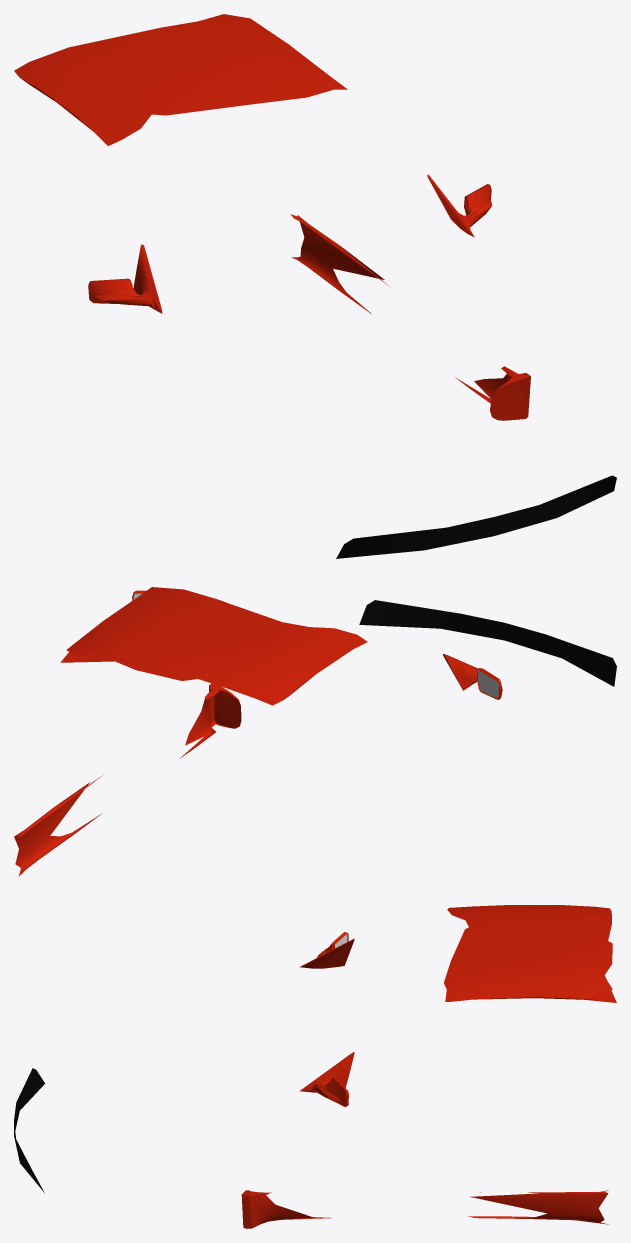
The model's file is doubleSidedMeshTest.fbx.
The picture shows the model from 3 angles, top to bottom: view 1: azimuth 30°, elevation 25°; view 2: azimuth 150°, elevation 25°; view 3: azimuth 270°, elevation 25°; orthographic projection. The views are drawn at different scales.
Parts seen in each view (by area): view 1: bmw7_convexHull, details; view 2: bmw7_convexHull, details; view 3: bmw7_convexHull, details.
Part boxes in pixels (x1=…): bmw7_convexHull: x1=14, y1=14, x2=616, y2=558; details: x1=88, y1=174, x2=492, y2=313; bmw7_convexHull: x1=14, y1=587, x2=616, y2=876; details: x1=132, y1=590, x2=502, y2=699; bmw7_convexHull: x1=14, y1=905, x2=616, y2=1228; details: x1=299, y1=932, x2=354, y2=1106.
Size of the model in its own units: 214 by 340 by 135.
